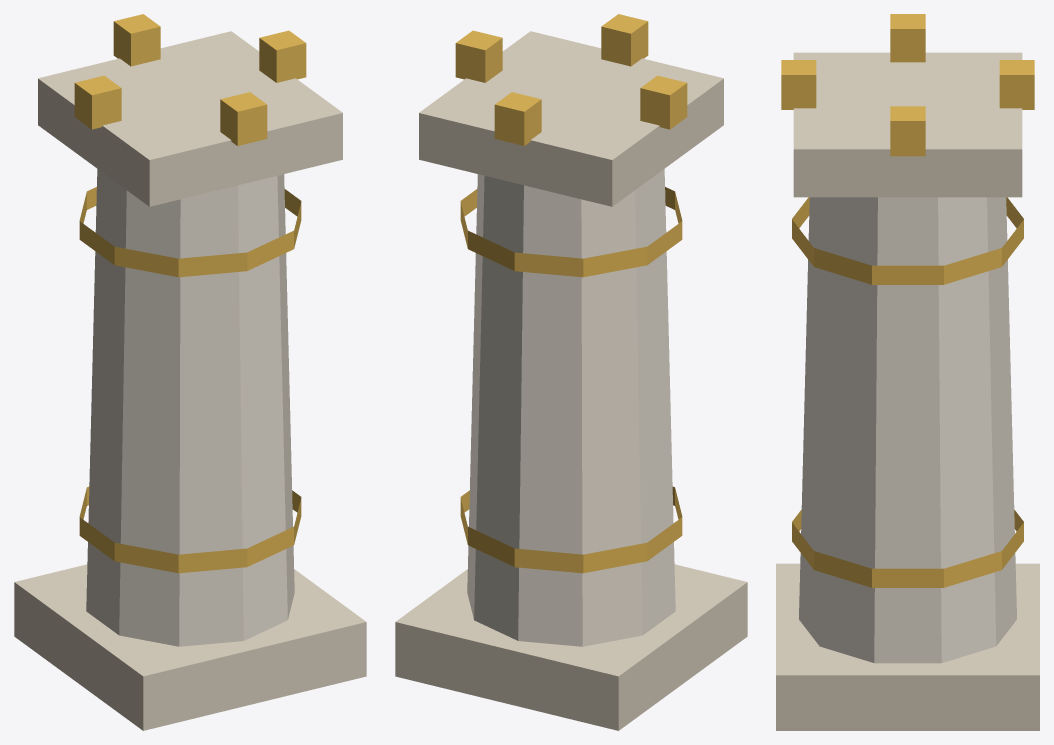
Rendered from prop_ug_column.glb.
3 renders of one model, left to right at view 1: azimuth 30°, elevation 25°; view 2: azimuth 150°, elevation 25°; view 3: azimuth 270°, elevation 25°, orthographic. The views are drawn at different scales.
Parts seen in each view (by area): view 1: prop_ug_column; view 2: prop_ug_column; view 3: prop_ug_column.
Boxes of the visible parts, left/top/right/bottom form: prop_ug_column: left=14, top=14, right=366, bottom=730; prop_ug_column: left=395, top=14, right=747, bottom=730; prop_ug_column: left=776, top=14, right=1039, bottom=730.
Size of the model in its own units: 1.5 by 3.81 by 1.5.
Materials: 1 (1 with a texture image).
